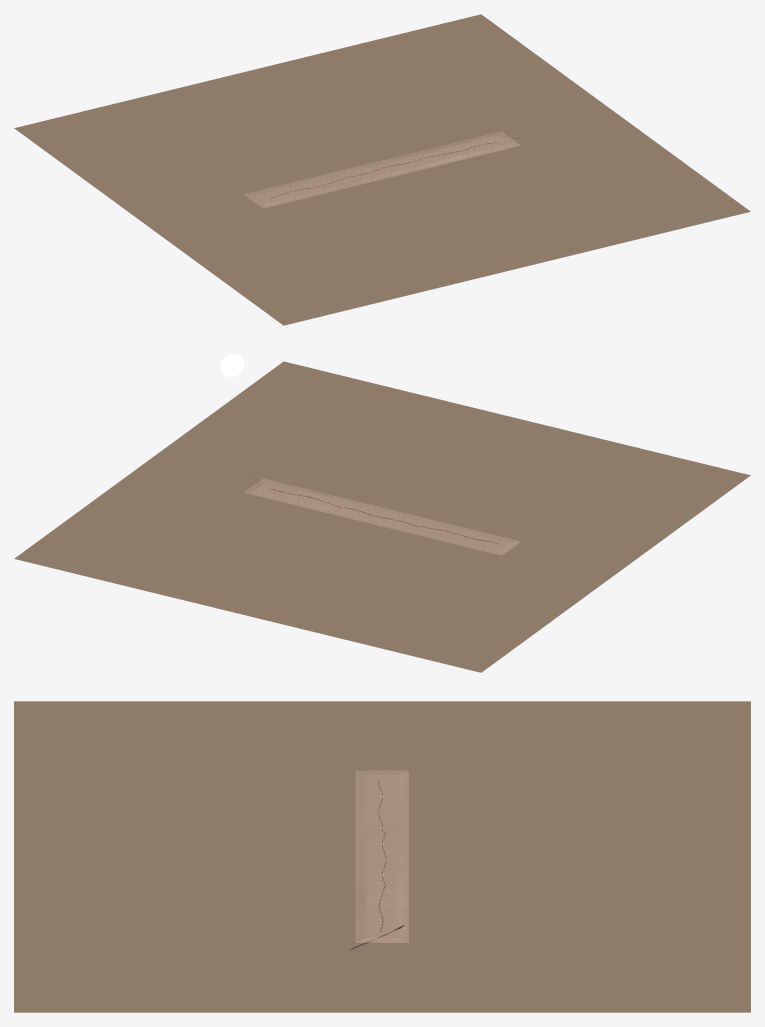
File: jaipur.glb
3 renders of one model, top to bottom at view 1: azimuth 30°, elevation 25°; view 2: azimuth 150°, elevation 25°; view 3: azimuth 270°, elevation 25°, orthographic. The views are drawn at different scales.
Parts seen in each view (by area): view 1: Sea; view 2: Sea; view 3: Sea, Land_000, Land_037.
Part boxes in pixels (x1,y1,x2,y2): Sea: (14,14,750,325); Sea: (14,361,750,672); Sea: (14,701,750,1012); Land_000: (355,770,408,785); Land_037: (355,931,408,942).
Bounding box in the file's own units: 18000 × 2714 × 18000.
